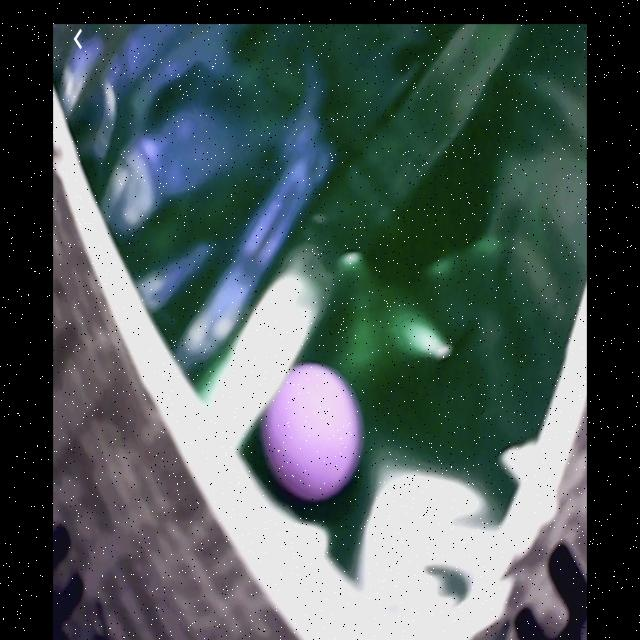ball: (264, 366, 362, 500)
